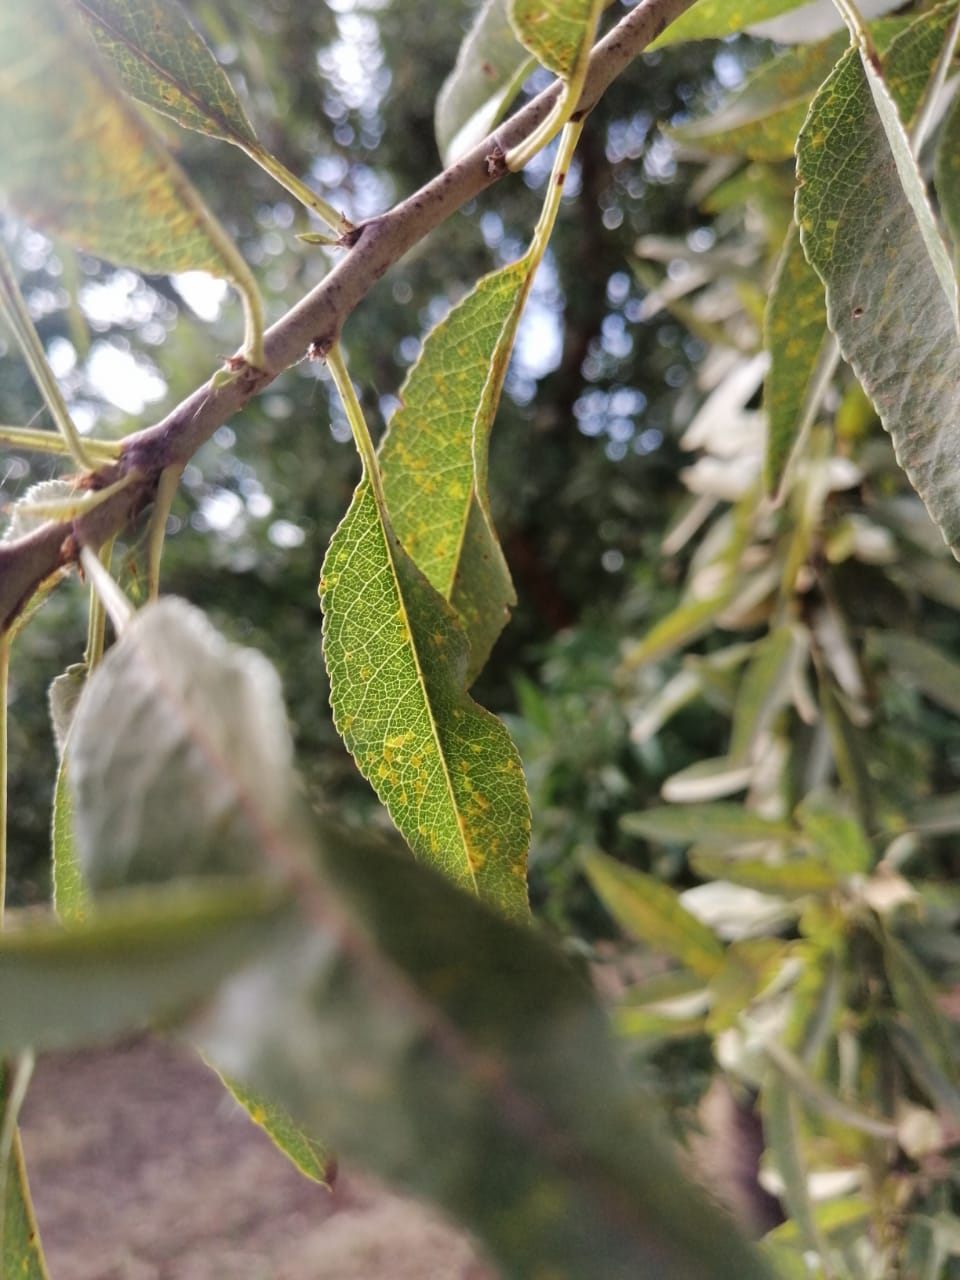rouille: (314, 460, 555, 930), (792, 29, 960, 563)
